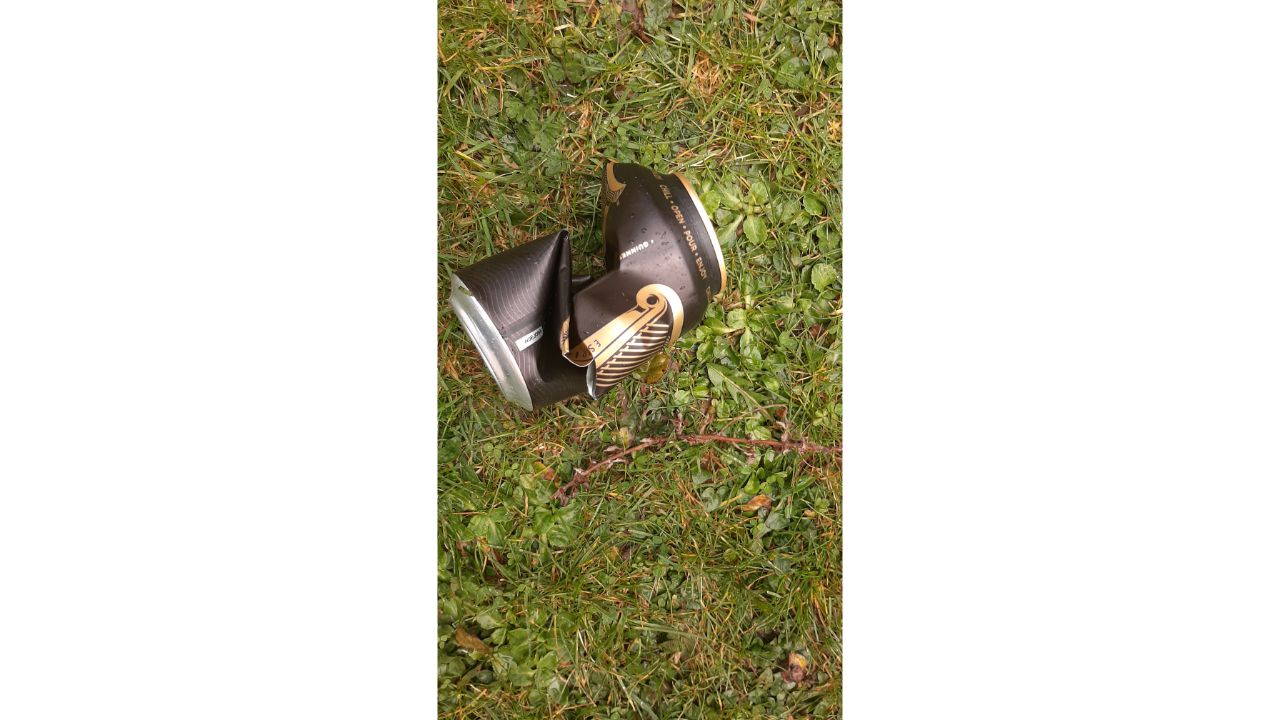Can: (447, 162, 730, 411)
